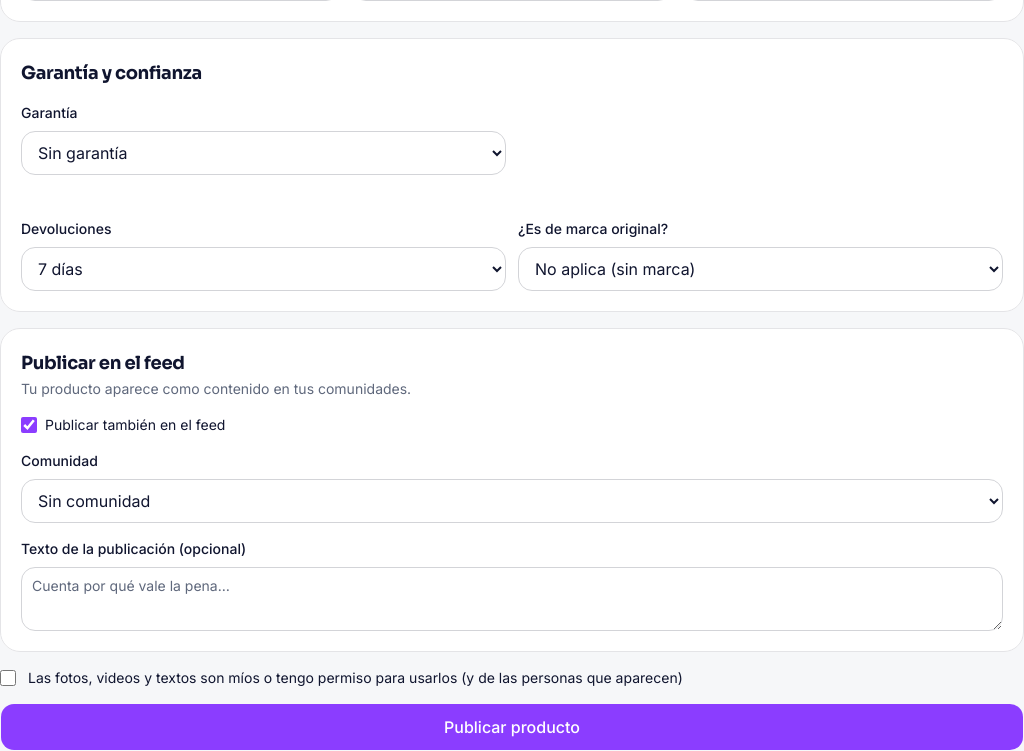
ProductForm › sin la casilla, el servidor lo rechaza y el error se ve junto a ella
The width and height of the screenshot is (1024, 751).
(page scrolled)
What coordinates should you click on to do the following:
click the button "Publicar producto"
I would click on:
 (512, 727)
Its box is [0,703,1023,750].
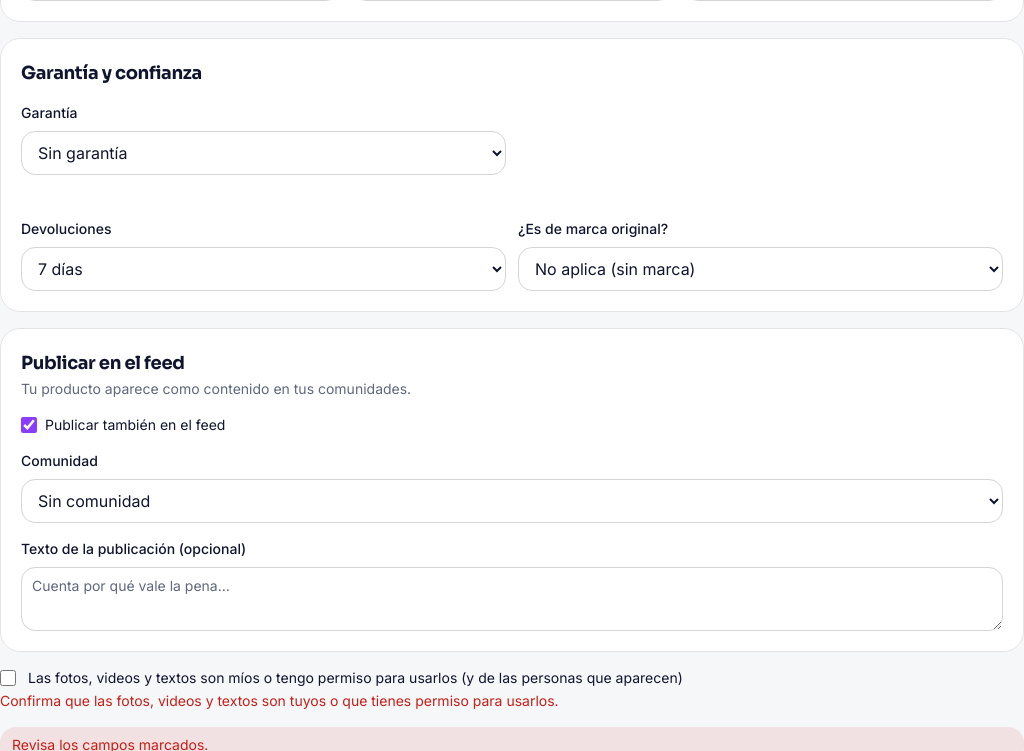
Expected: the text "Confirma que las fotos, videos y textos son tuyos o que tienes permiso para usarlos." is shown, [0,692,559,709]
